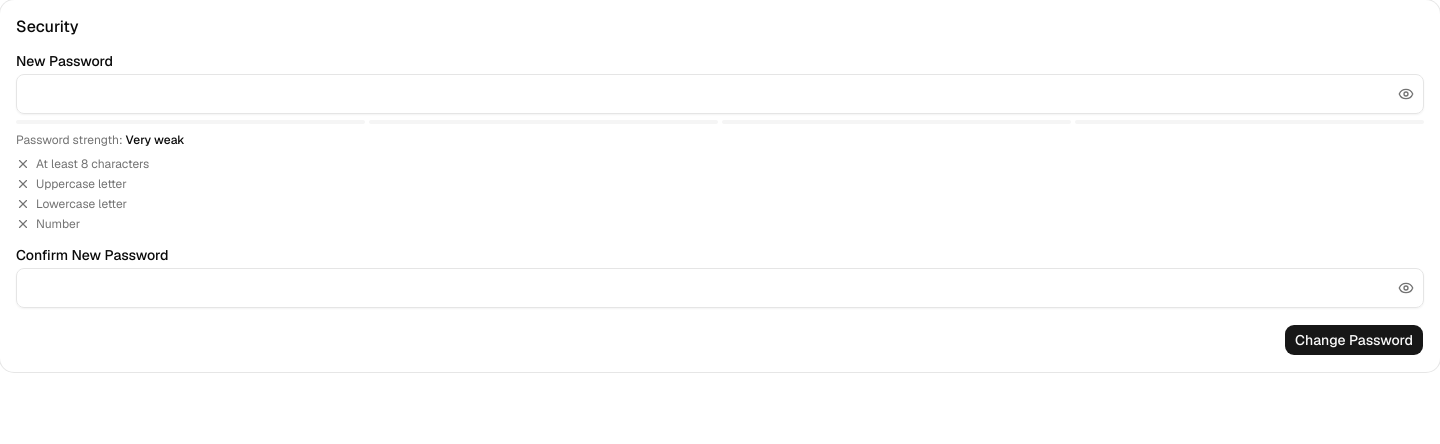
Scenario: ChangePasswordForm › shows an error when updatePassword fails
Type "StrongPass1" into the password field labelled "New Password" at point(720, 94), box [16,74,1424,114]
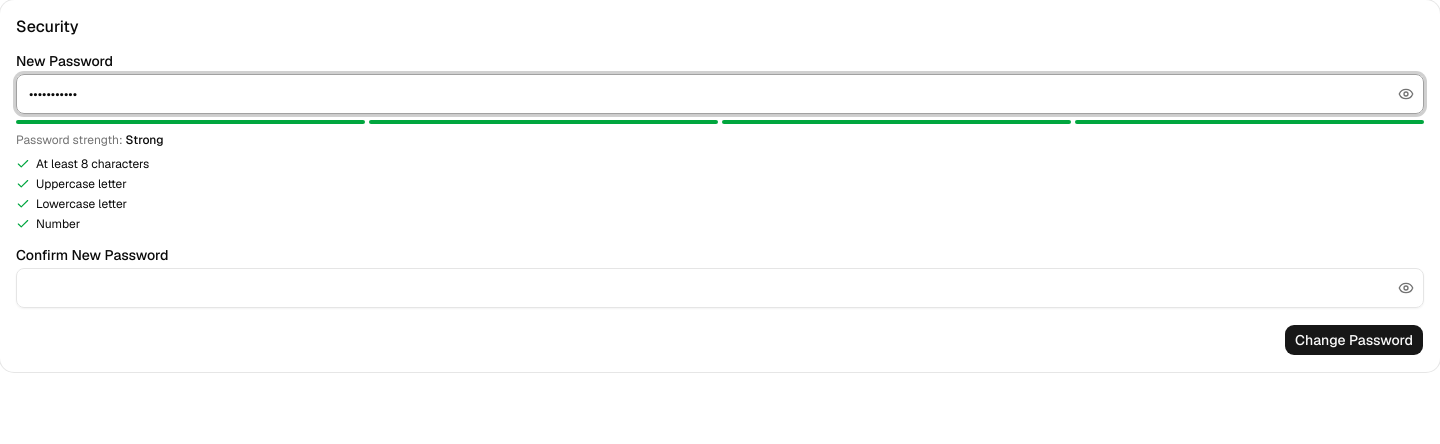
Type "StrongPass1" into the password field labelled "Confirm New Password" at point(720, 288), box [16,268,1424,308]
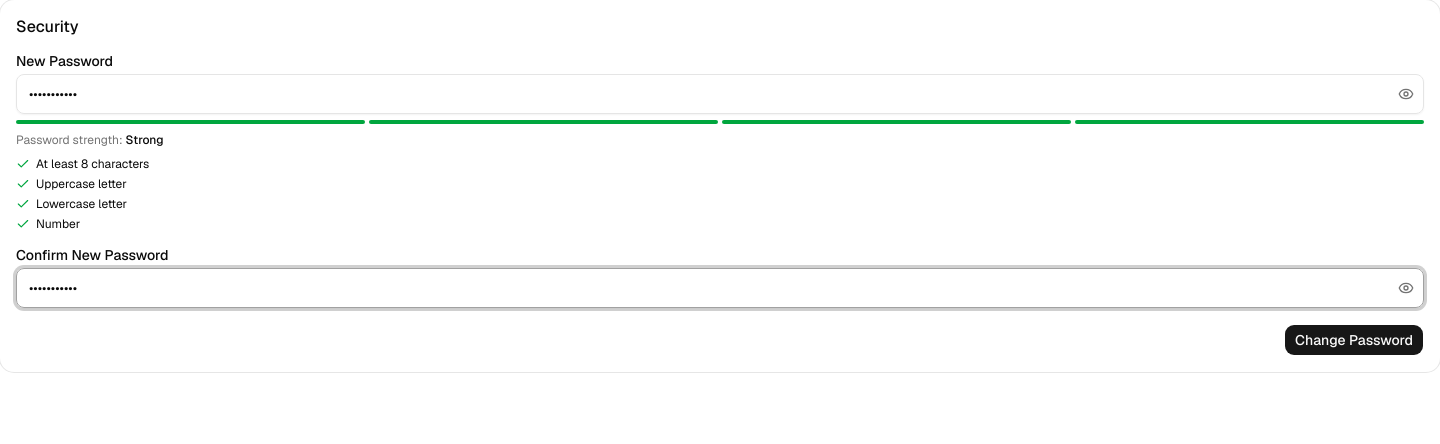
Click the button "Change Password" at point(1354, 340), box [1284,324,1424,356]
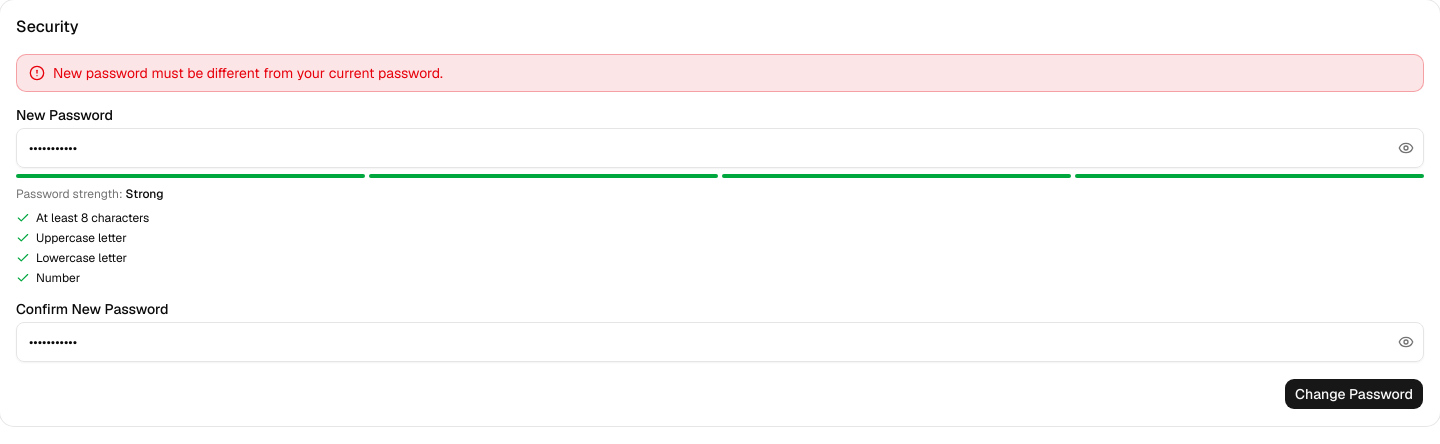
expect the text "New password must be different from your current password." is shown: met, box [53,63,443,83]
